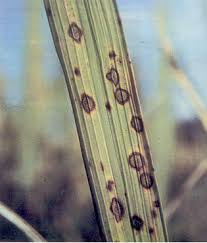Bercak Coklat: (80, 87, 96, 119), (67, 20, 86, 45), (112, 86, 133, 108), (103, 66, 121, 87), (104, 44, 122, 63), (128, 213, 144, 233), (69, 63, 85, 80), (99, 99, 115, 114), (144, 223, 160, 238), (103, 173, 114, 193)
